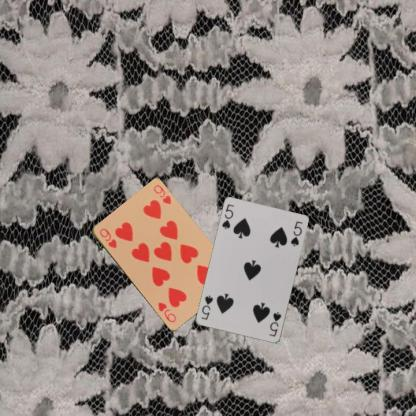5s: (266, 310, 283, 338), (220, 202, 235, 231)
9h: (96, 226, 118, 250)
